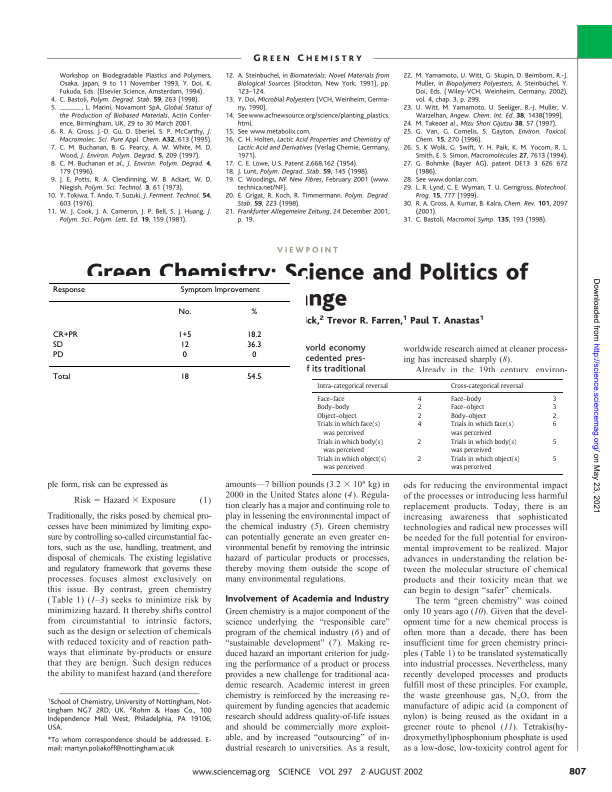borderless: (47, 281, 291, 390), (311, 377, 563, 474)
cell: (316, 455, 387, 472), (450, 455, 521, 472), (316, 437, 384, 454), (450, 437, 518, 454), (316, 420, 381, 437), (450, 420, 515, 437), (179, 286, 260, 295), (450, 382, 524, 390), (316, 382, 389, 390), (316, 412, 358, 420), (316, 403, 351, 412), (450, 403, 485, 412), (51, 286, 85, 295), (450, 412, 487, 420), (51, 330, 78, 340), (450, 395, 482, 403), (316, 395, 346, 403), (51, 373, 71, 382), (246, 330, 262, 340), (246, 340, 262, 350), (177, 330, 192, 340), (246, 373, 262, 382), (177, 308, 192, 317), (51, 340, 63, 350), (51, 351, 64, 360), (179, 340, 189, 350), (179, 373, 189, 382), (250, 308, 258, 317), (552, 403, 558, 412), (552, 420, 558, 429), (552, 437, 558, 446), (181, 351, 187, 360), (251, 351, 257, 360), (552, 395, 558, 403), (552, 412, 558, 420), (552, 455, 558, 463), (417, 403, 422, 412), (417, 420, 422, 429), (417, 437, 422, 446), (417, 395, 422, 403), (417, 412, 422, 420), (417, 455, 422, 463)
